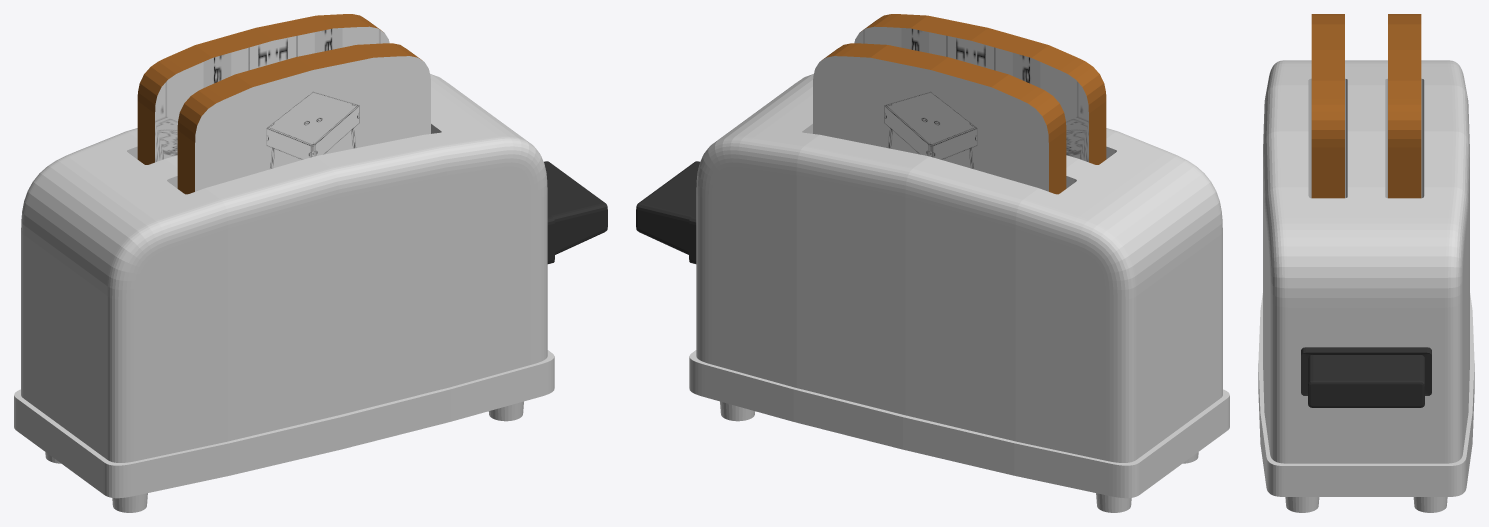
File: hero003.glb
3 renders of one model, left to right at view 1: azimuth 30°, elevation 25°; view 2: azimuth 150°, elevation 25°; view 3: azimuth 270°, elevation 25°, orthographic. The views are drawn at different scales.
Visible parts, largest first — view 1: toaster, bread, handle; view 2: toaster, bread, handle; view 3: toaster, bread, handle.
Part boxes in pixels (bbox=[...]): toaster: bbox=[14, 74, 554, 512]; bread: bbox=[137, 14, 430, 194]; handle: bbox=[544, 161, 607, 263]; toaster: bbox=[689, 74, 1229, 512]; bread: bbox=[813, 14, 1106, 194]; handle: bbox=[636, 161, 699, 263]; toaster: bbox=[1258, 60, 1474, 512]; bread: bbox=[1311, 14, 1421, 198]; handle: bbox=[1301, 347, 1431, 407].
Size of the model in its own units: 2.74 by 1.95 by 1.04.
Materials: 3 (1 with a texture image).
